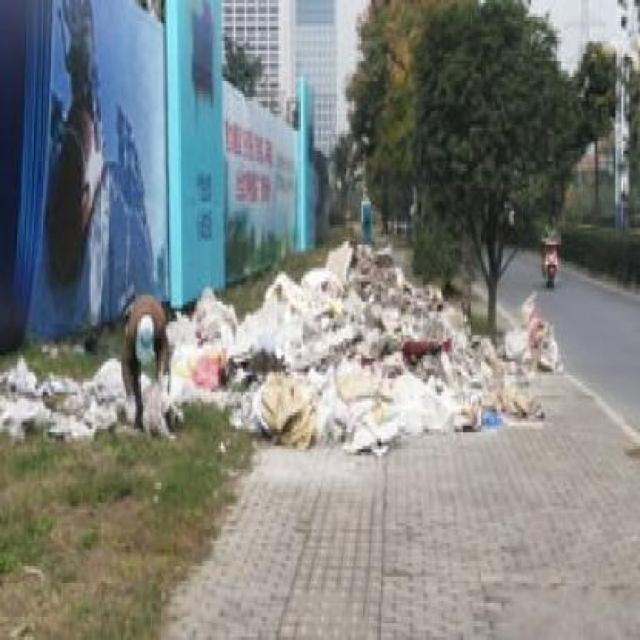garbage: (186, 279, 488, 436), (326, 236, 396, 343), (499, 271, 554, 372)
